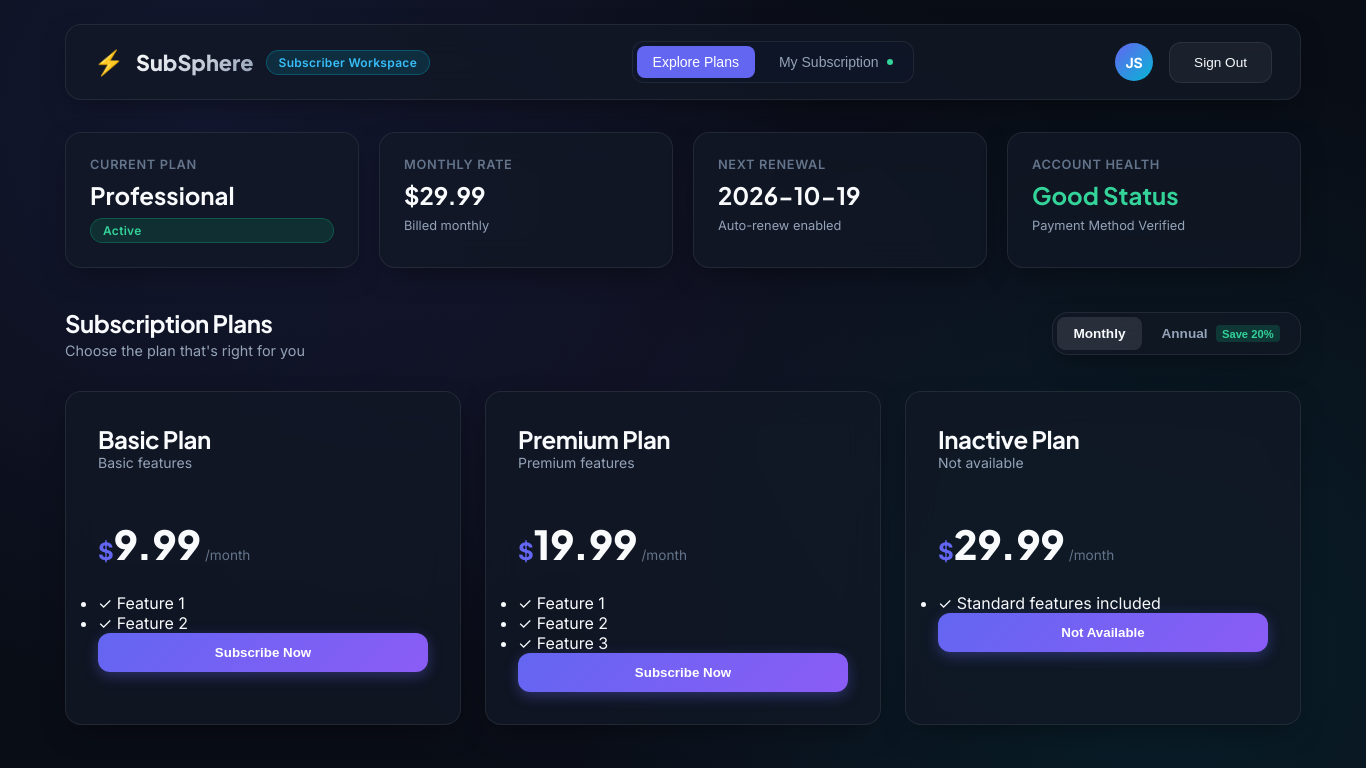
SubscriberDashboard › displays processing state during subscription
The image size is (1366, 768).
Expected: the heading "Basic Plan" is shown, x1=98 y1=424 x2=211 y2=454
Click the button "Subscribe Now" below "Basic features". click: coordinates (263, 652)
box: x1=98 y1=633 x2=428 y2=672
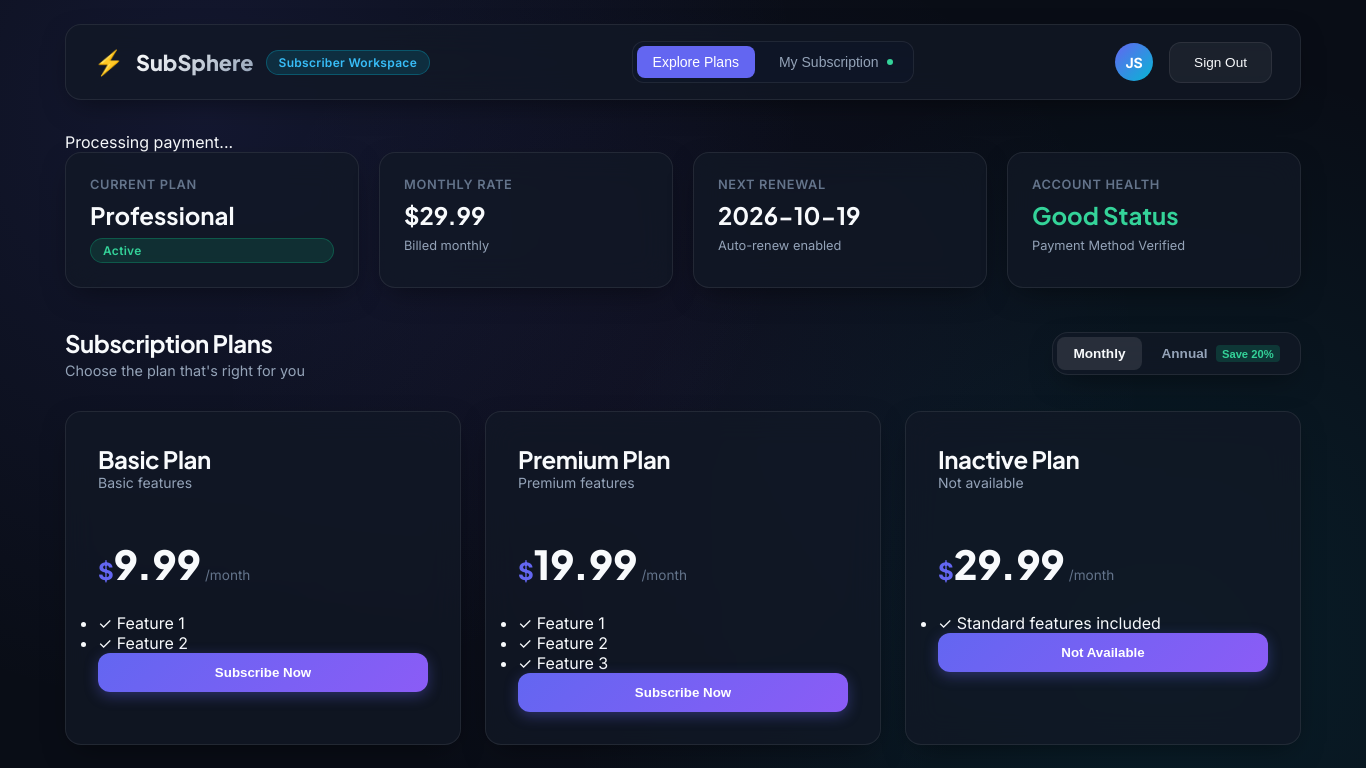
Now the text "Processing payment..." is shown, box x1=65 y1=132 x2=233 y2=152
